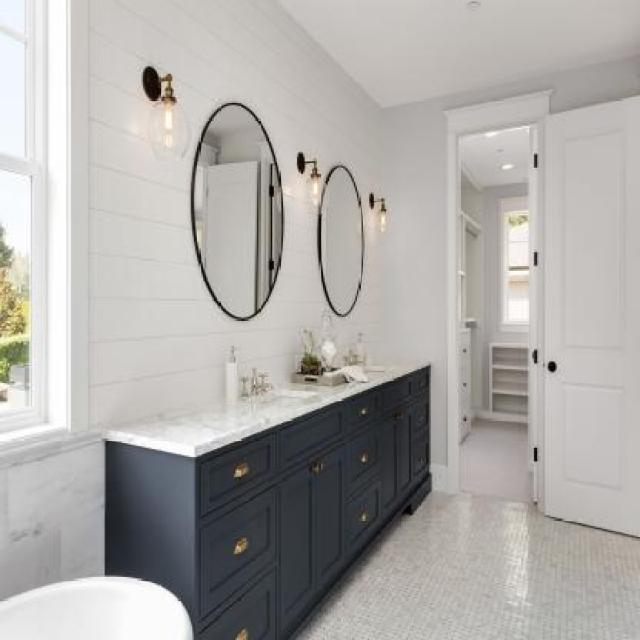floor: (293, 484, 640, 640)
